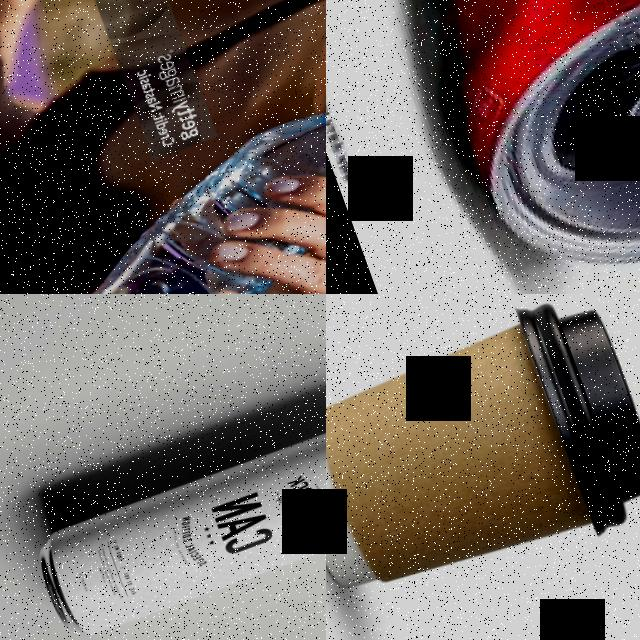bottle: (0, 71, 326, 294)
can: (20, 391, 326, 640)
cup: (326, 294, 640, 639)
